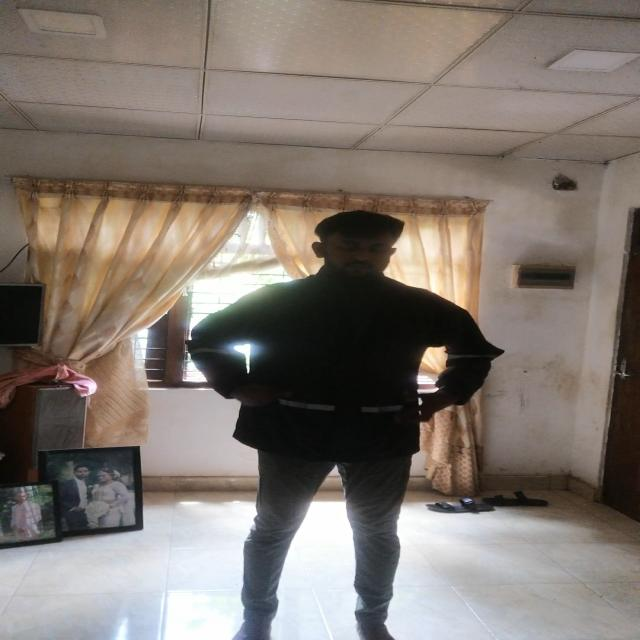Jacket_Wearer: (200, 271, 499, 468)
Person: (198, 192, 501, 640)
